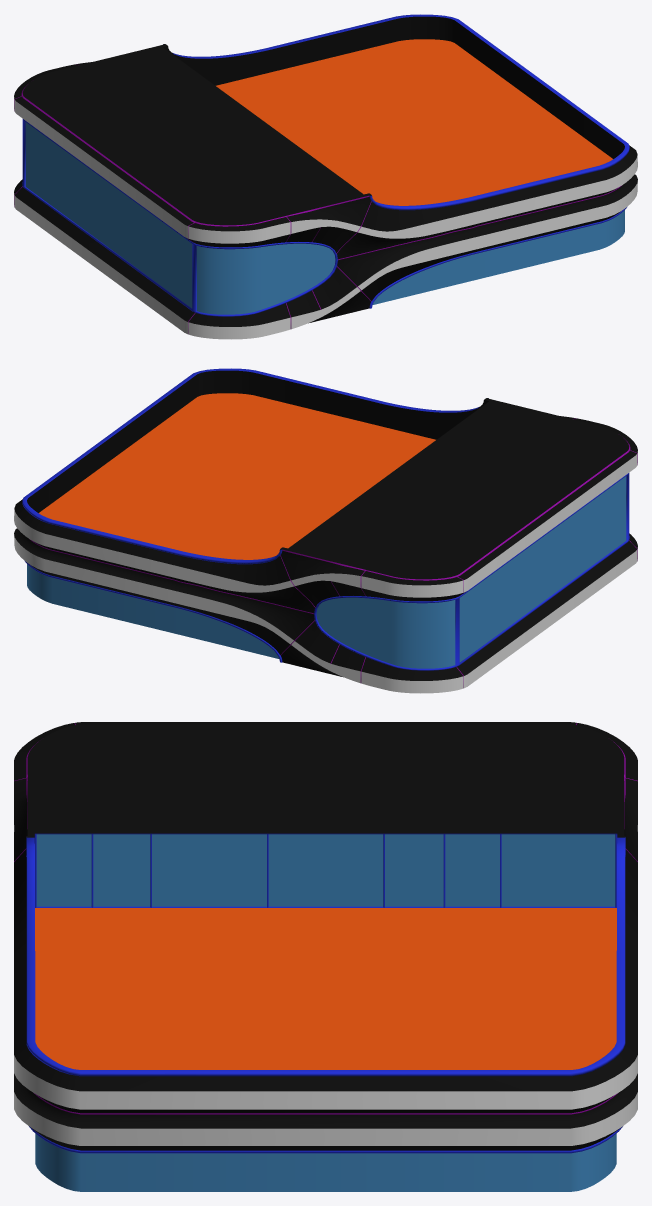
File: SM_Building_MK3_Middle_02.fbx
3 renders of one model, top to bottom at view 1: azimuth 30°, elevation 25°; view 2: azimuth 150°, elevation 25°; view 3: azimuth 270°, elevation 25°, orthographic. The views are drawn at different scales.
Visible parts, largest first — view 1: Middle_02; view 2: Middle_02; view 3: Middle_02.
Part boxes in pixels (box(x1,y1,x2,y2)): Middle_02: box(14, 14, 637, 339); Middle_02: box(14, 368, 637, 693); Middle_02: box(14, 722, 637, 1191).
Bounding box in the file's own units: 2092 × 500 × 1731.
